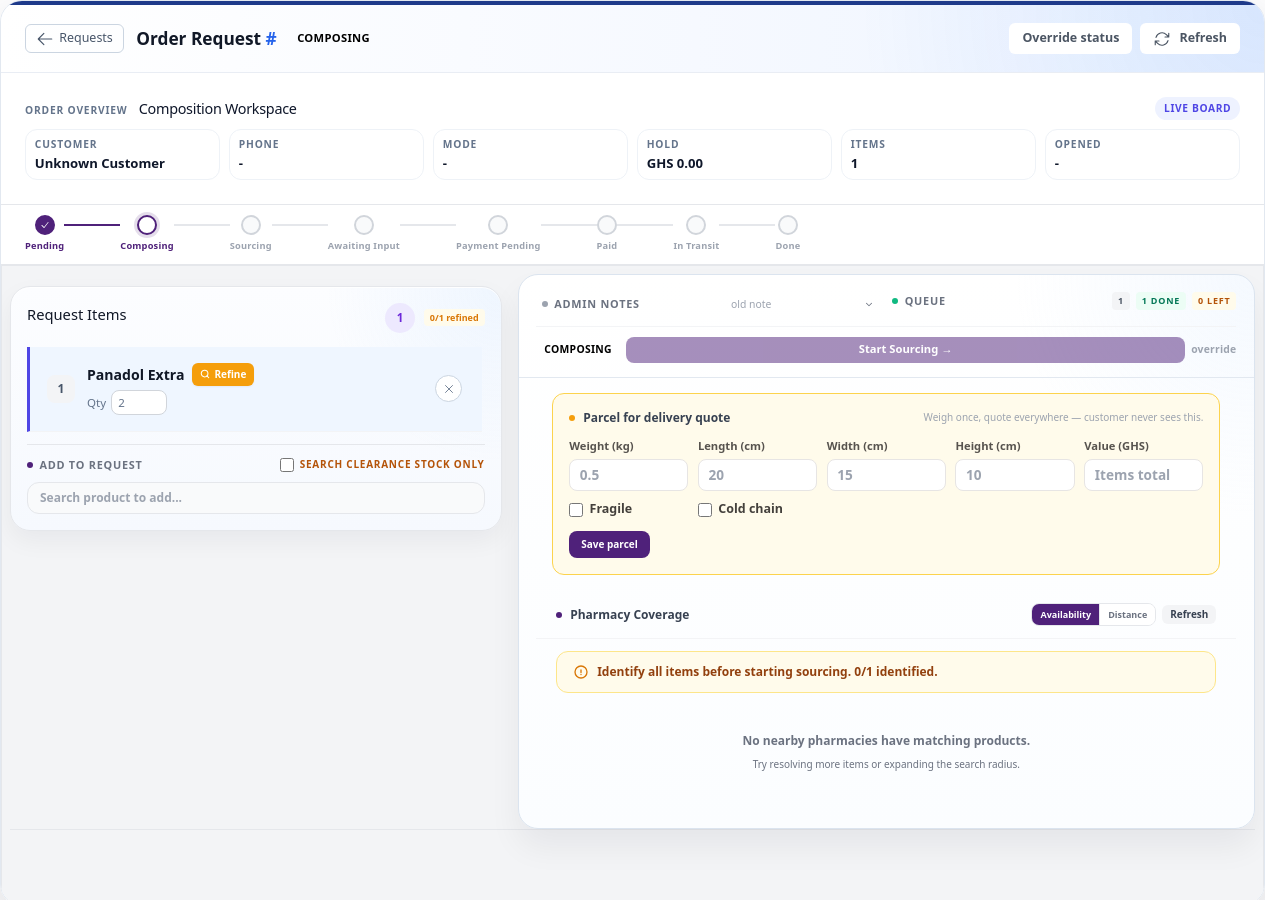
Scenario: admin notes › saves the notes as edited
This screenshot has width=1280, height=900.
Click the button "Admin Notes old note" at (597, 304), box x1=536 y1=292 x2=880 y2=316
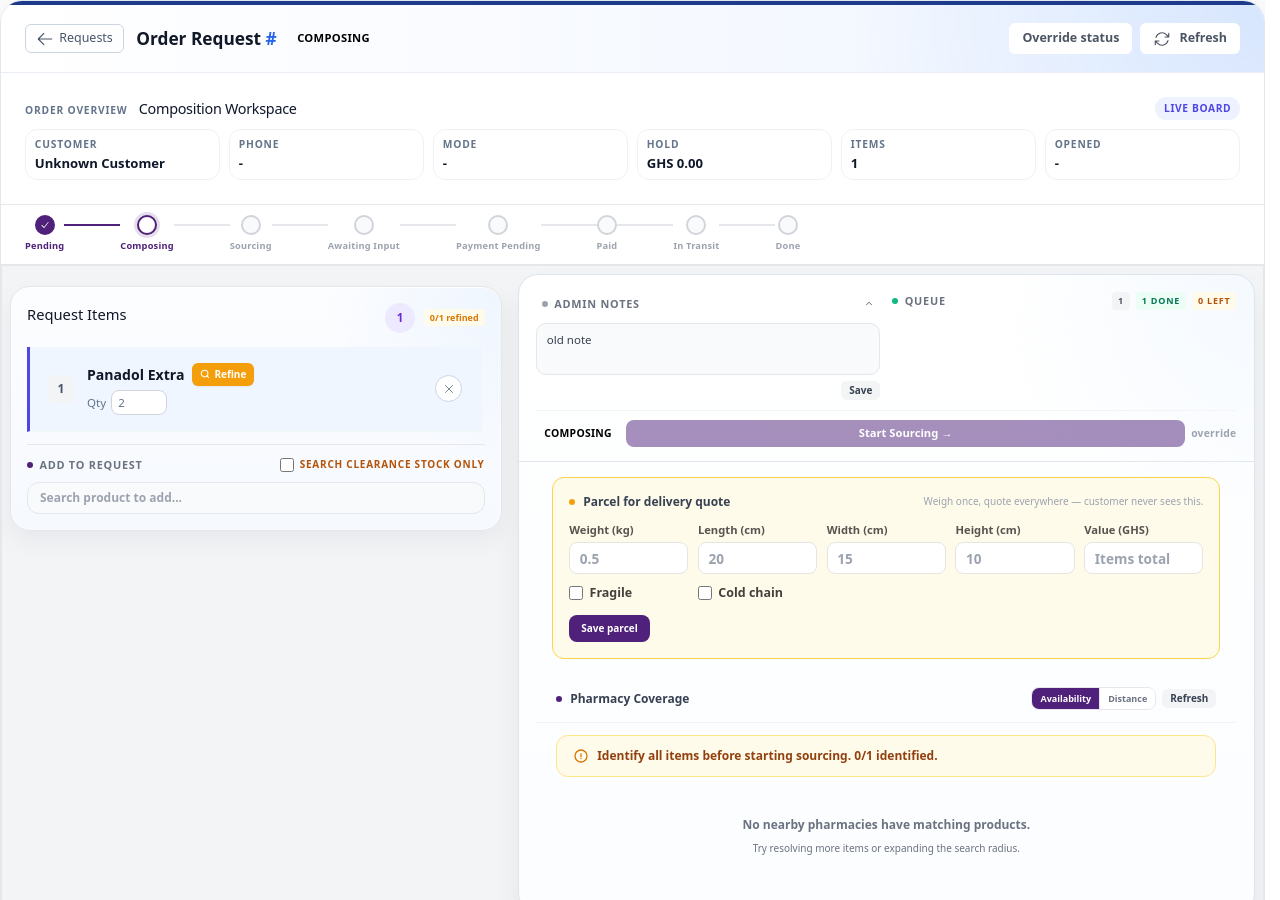
Replace the text in the text box with class "composer-meta-textarea" with "Called the customer" at (708, 349), box x1=536 y1=323 x2=880 y2=375
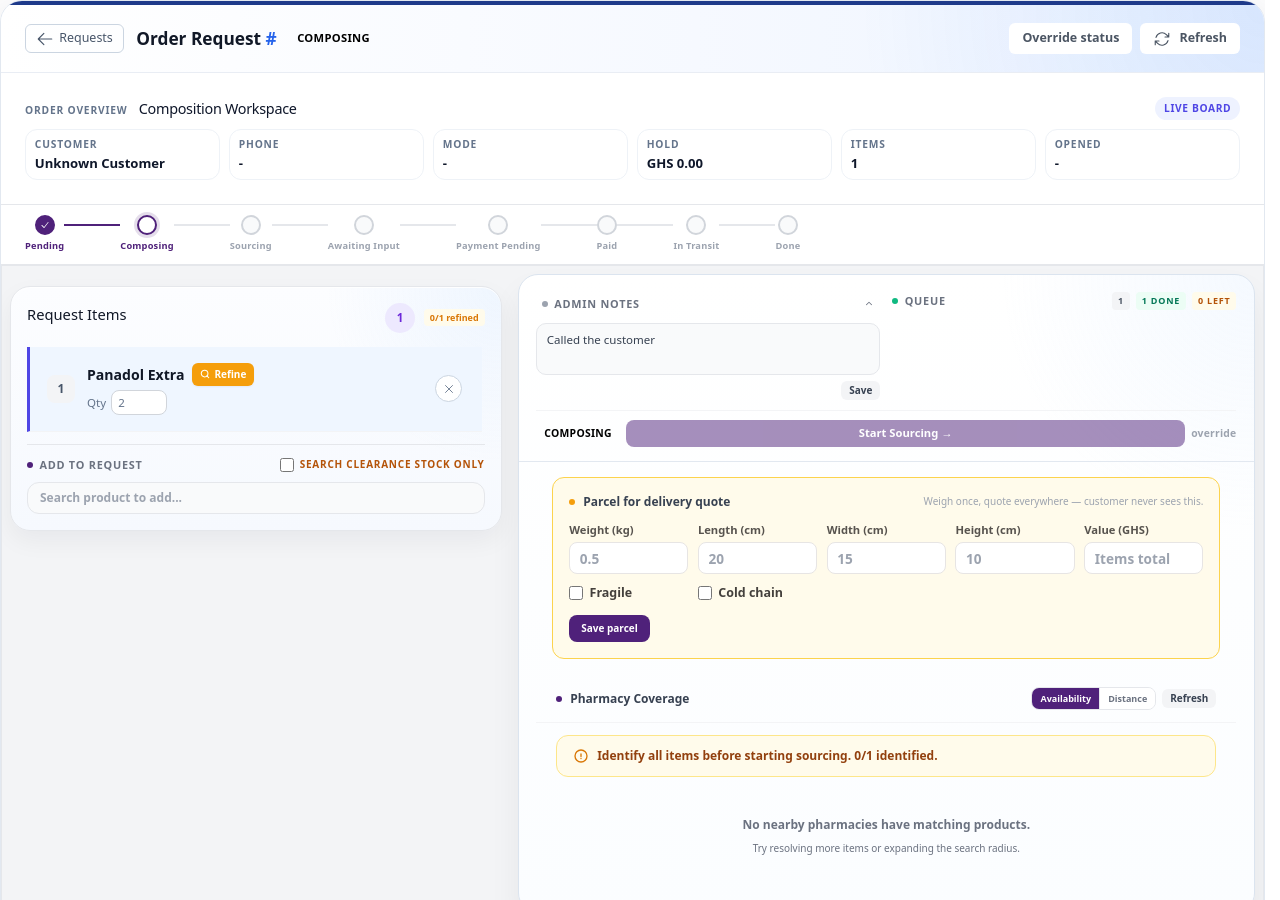
Click the button "Save" at (861, 391), box x1=841 y1=381 x2=880 y2=400
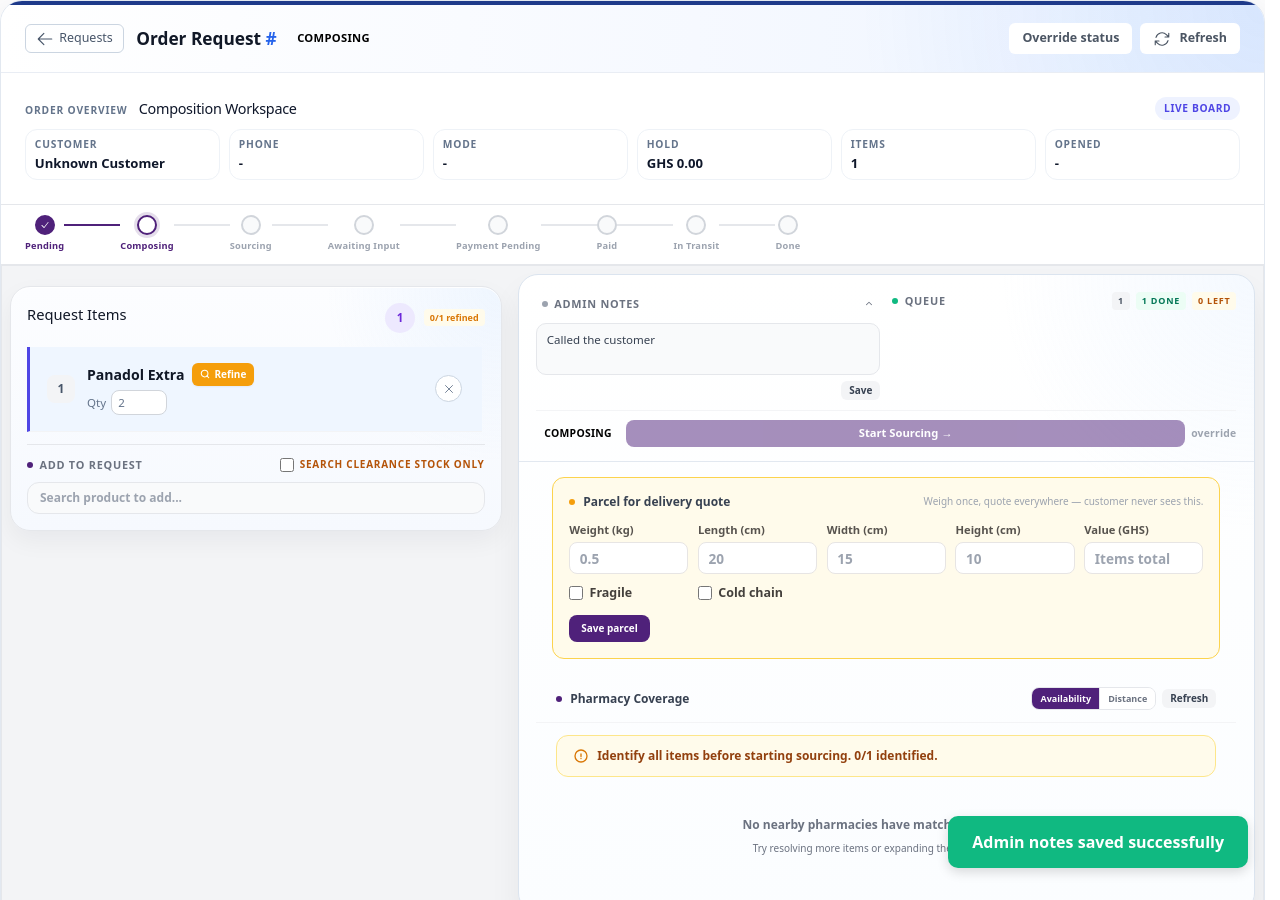
Result: the text "Admin notes saved successfully" is shown at x1=948 y1=816 x2=1248 y2=868
